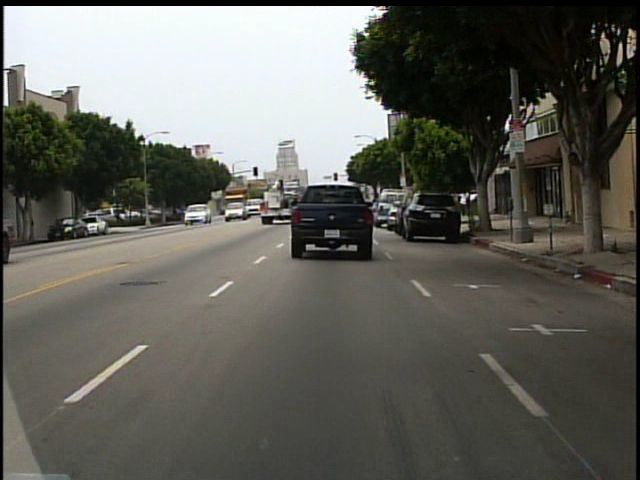person: (460, 186, 470, 219)
